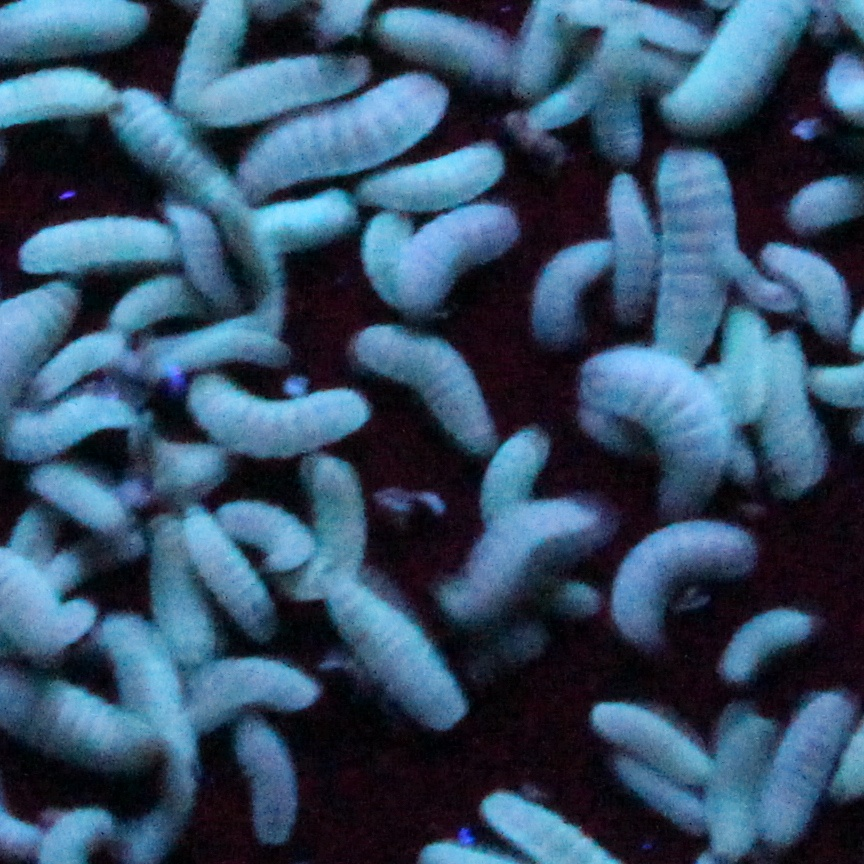larve: (341, 589, 465, 728), (249, 87, 435, 175), (612, 365, 726, 502), (455, 502, 579, 620), (379, 336, 490, 455), (624, 530, 743, 634), (126, 85, 233, 197), (762, 696, 849, 829), (661, 167, 722, 351), (202, 377, 369, 442), (126, 634, 175, 853), (192, 510, 275, 626), (408, 208, 516, 297), (528, 244, 612, 346), (300, 465, 363, 600), (708, 719, 759, 862), (163, 318, 279, 379), (594, 701, 689, 775), (208, 73, 357, 120), (610, 187, 657, 330), (237, 730, 294, 840), (135, 432, 222, 504), (390, 22, 518, 69), (775, 350, 818, 489), (718, 611, 808, 676), (28, 220, 163, 263), (490, 428, 549, 526), (16, 404, 124, 457), (165, 520, 206, 659), (373, 150, 494, 197), (32, 467, 128, 526), (190, 659, 314, 704), (792, 253, 853, 344), (33, 338, 114, 399), (620, 763, 697, 827), (582, 2, 694, 42), (171, 208, 220, 299), (255, 197, 365, 236), (243, 510, 314, 567), (51, 530, 147, 571), (610, 32, 641, 157), (116, 287, 194, 336), (726, 320, 757, 432), (369, 212, 404, 306), (539, 73, 594, 128), (732, 253, 786, 304)
